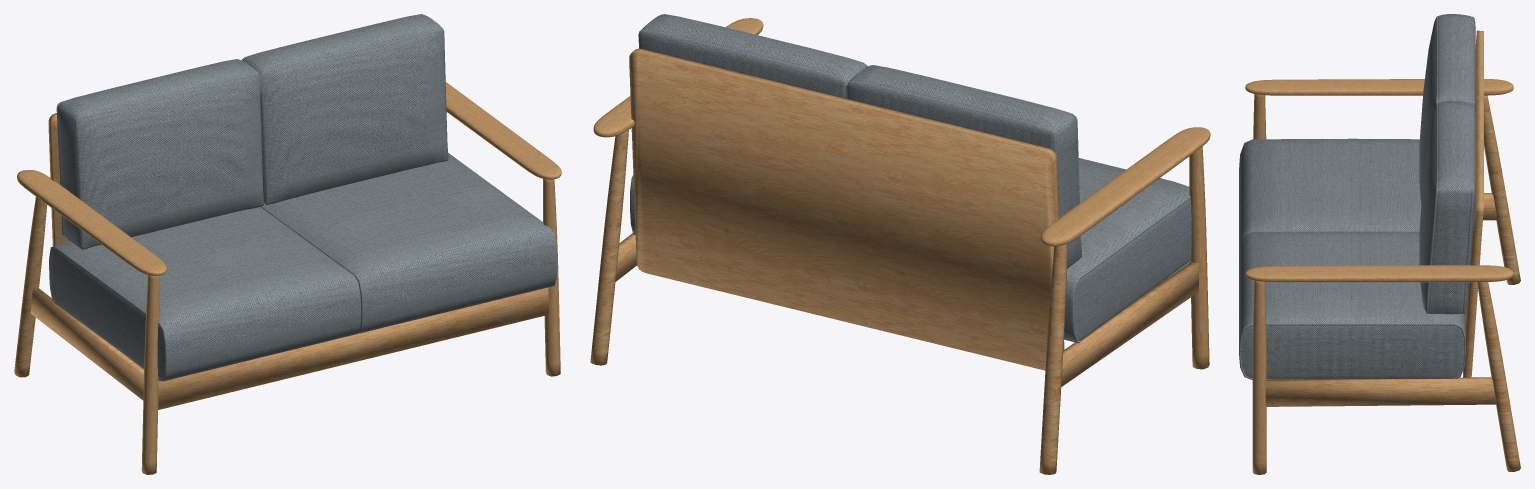
Rendered from design5.obj.
The picture shows the model from 3 angles, left to right: view 1: azimuth 30°, elevation 25°; view 2: azimuth 150°, elevation 25°; view 3: azimuth 270°, elevation 25°; orthographic projection. The views are drawn at different scales.
Visible parts, largest first — view 1: Box023, Box024, Plane006, Box019, Box020, Plane007, Plane008; view 2: Plane008, Box024, Box023, Box019, Box020, Plane007; view 3: Box023, Box024, Box019, Box020, Plane007, Plane008.
Part boxes in pixels (x1,y1,x2,y2): Box023: [49, 153, 557, 381]; Box024: [56, 14, 448, 249]; Plane006: [158, 287, 549, 409]; Box019: [14, 179, 560, 474]; Box020: [17, 82, 561, 275]; Plane007: [30, 288, 143, 400]; Plane008: [48, 113, 67, 246]; Plane008: [629, 48, 1064, 370]; Box024: [638, 14, 1082, 268]; Box023: [630, 158, 1191, 342]; Box019: [590, 130, 1209, 474]; Box020: [593, 18, 1210, 246]; Plane007: [615, 233, 1198, 386]; Box023: [1239, 138, 1465, 379]; Box024: [1419, 14, 1475, 314]; Box019: [1252, 94, 1520, 474]; Box020: [1245, 79, 1513, 282]; Plane007: [1265, 193, 1497, 406]; Plane008: [1463, 30, 1483, 377].
Bounding box in the file's own units: 1363 × 900 × 817.
3 materials, 2 textured.
